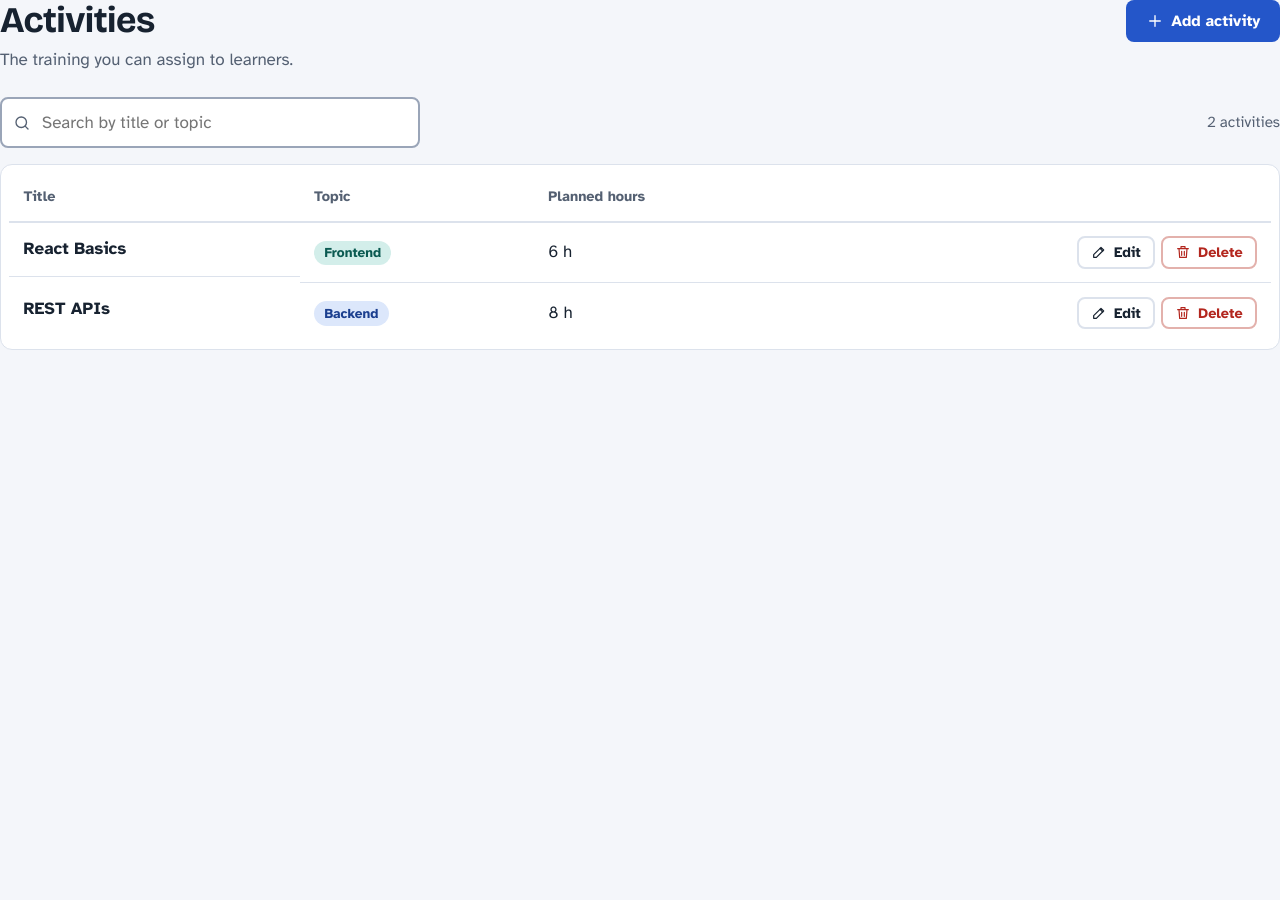
Test case: deleting an activity › keeps the dialog open and shows the error when deleting fails
This screenshot has width=1280, height=900.
Click the button with aria-label "Delete REST APIs" at coordinates (1209, 313), box left=1161, top=297, right=1257, bottom=329
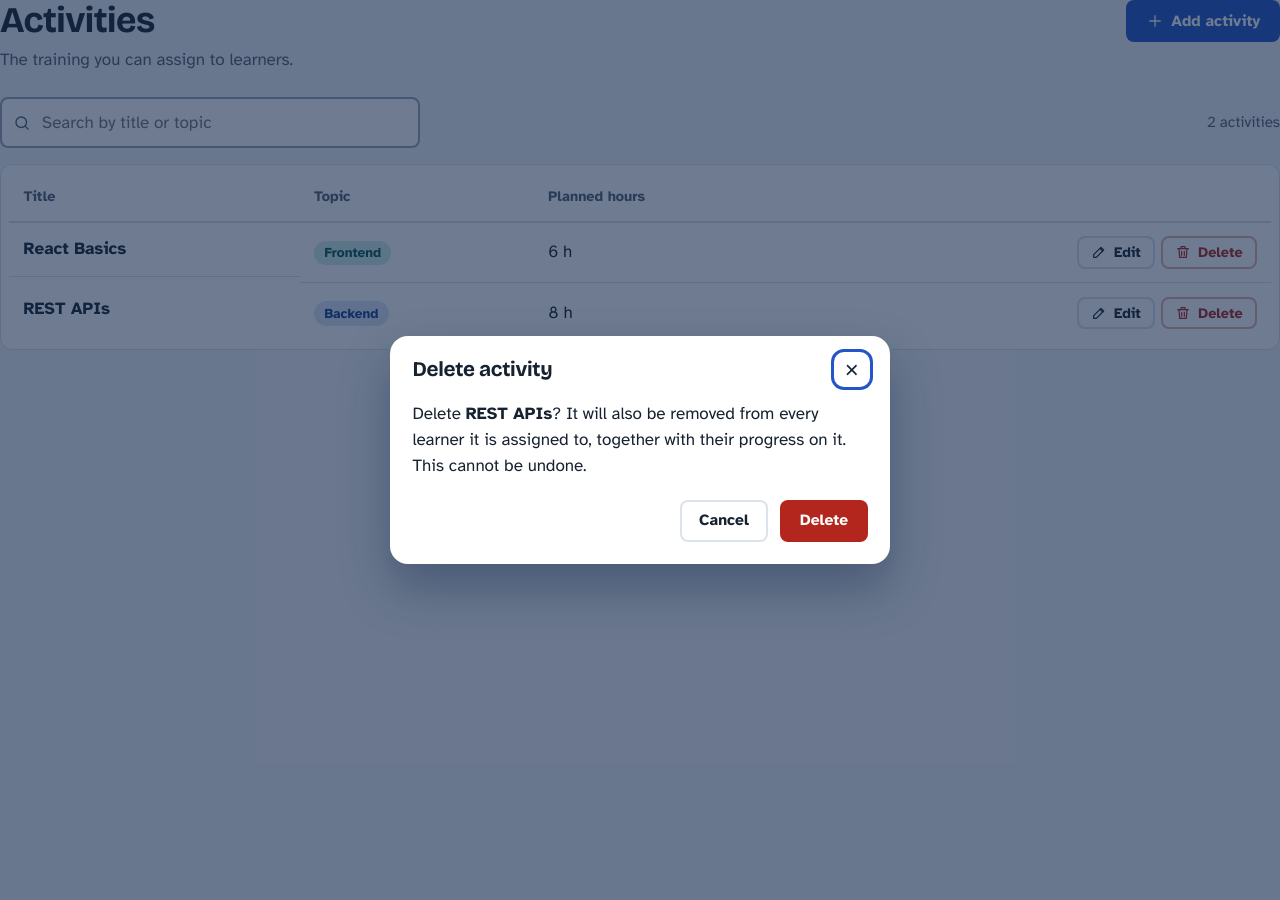
Click the button "Delete" at coordinates (824, 521), box left=780, top=500, right=868, bottom=542
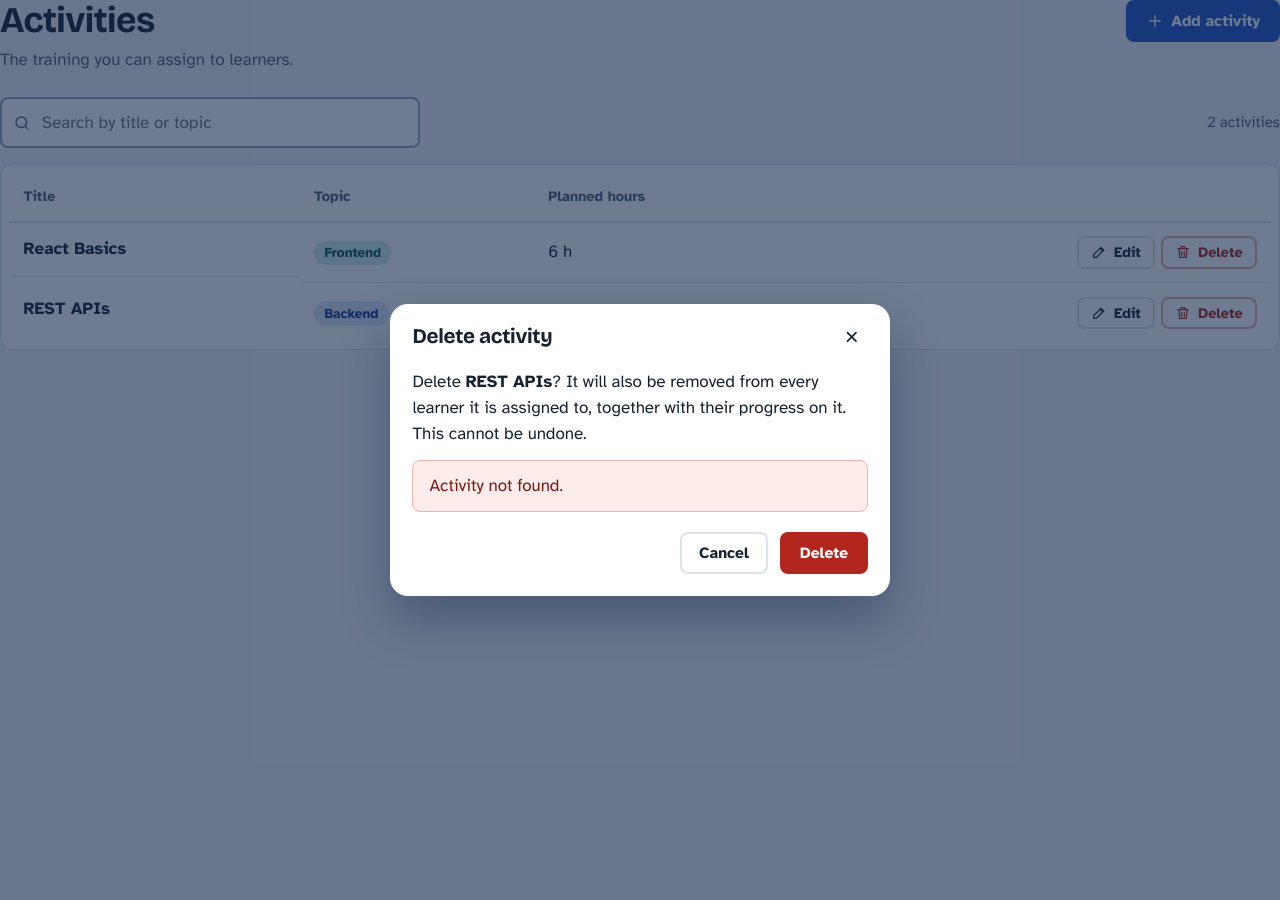
Expected: the dialog "Delete activity" is shown, left=390, top=304, right=890, bottom=596
Expected: the message reads "Activity not found.", left=429, top=475, right=563, bottom=496
